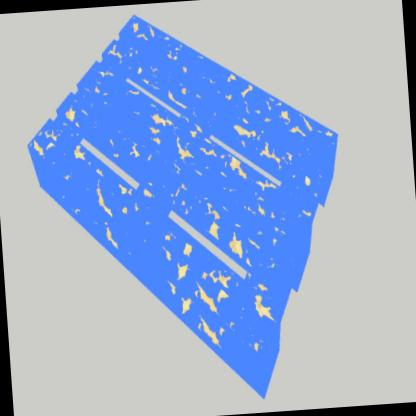BoxFace: (24, 10, 339, 409)
